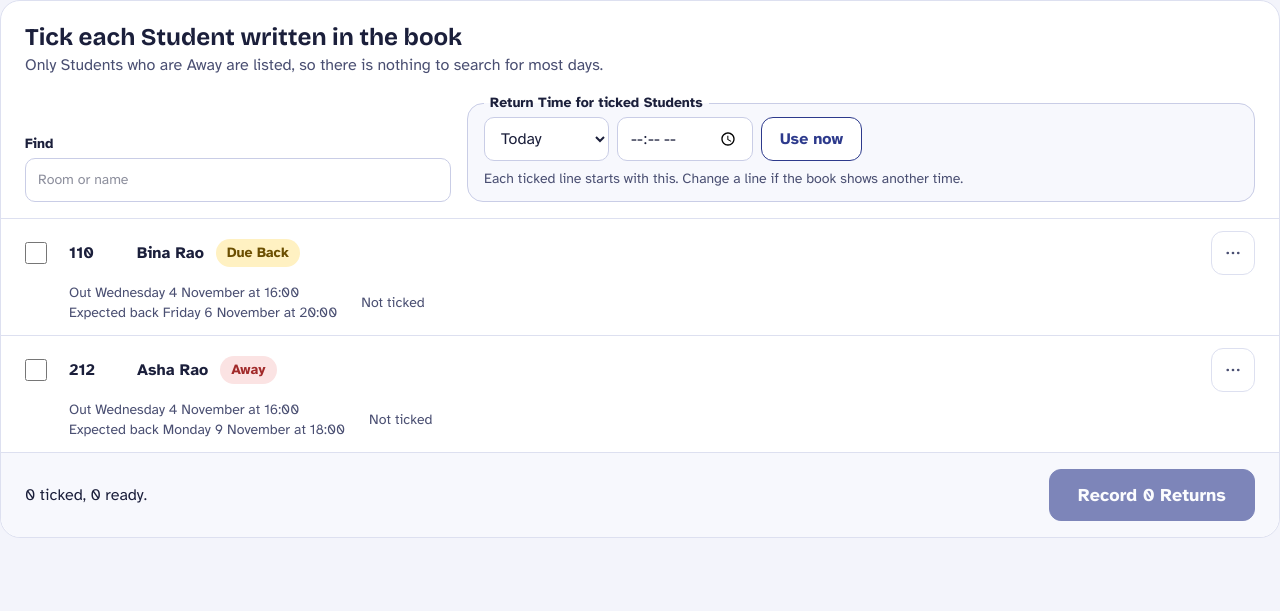
the Back-from-Home Book › changing one line leaves the other lines with the time from the top
Type "17:15" into the time field named "Return Time for ticked Students" at (685, 139), box [617, 117, 753, 161]
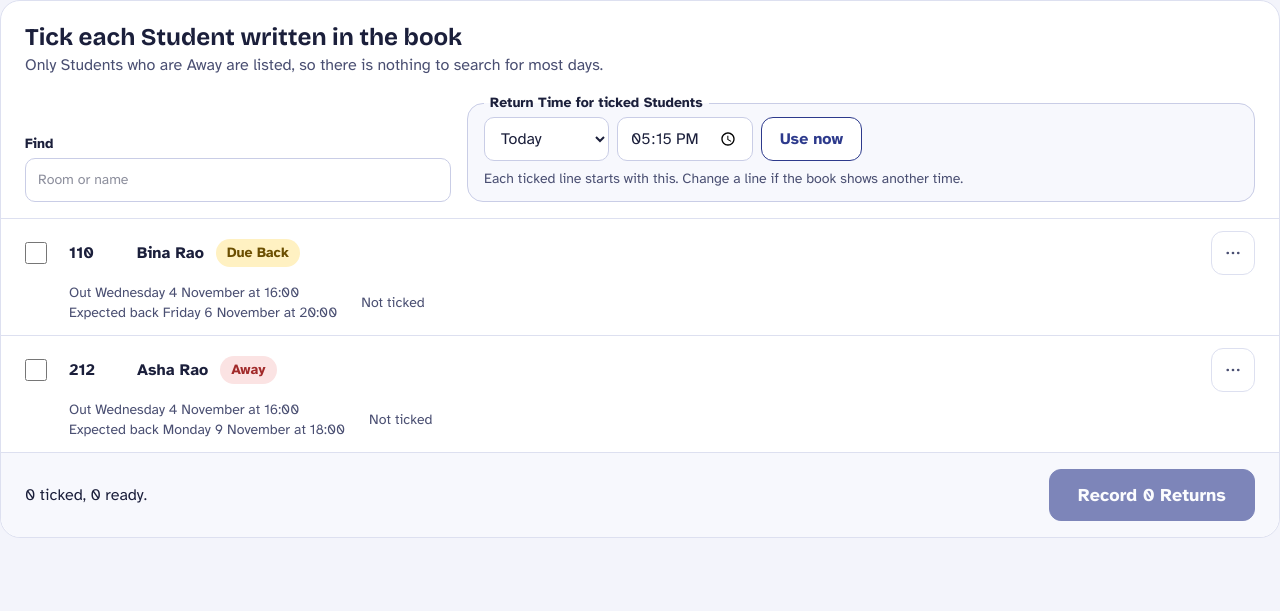
Click the checkbox named "Asha Rao came back" at (36, 370), box [25, 359, 47, 381]
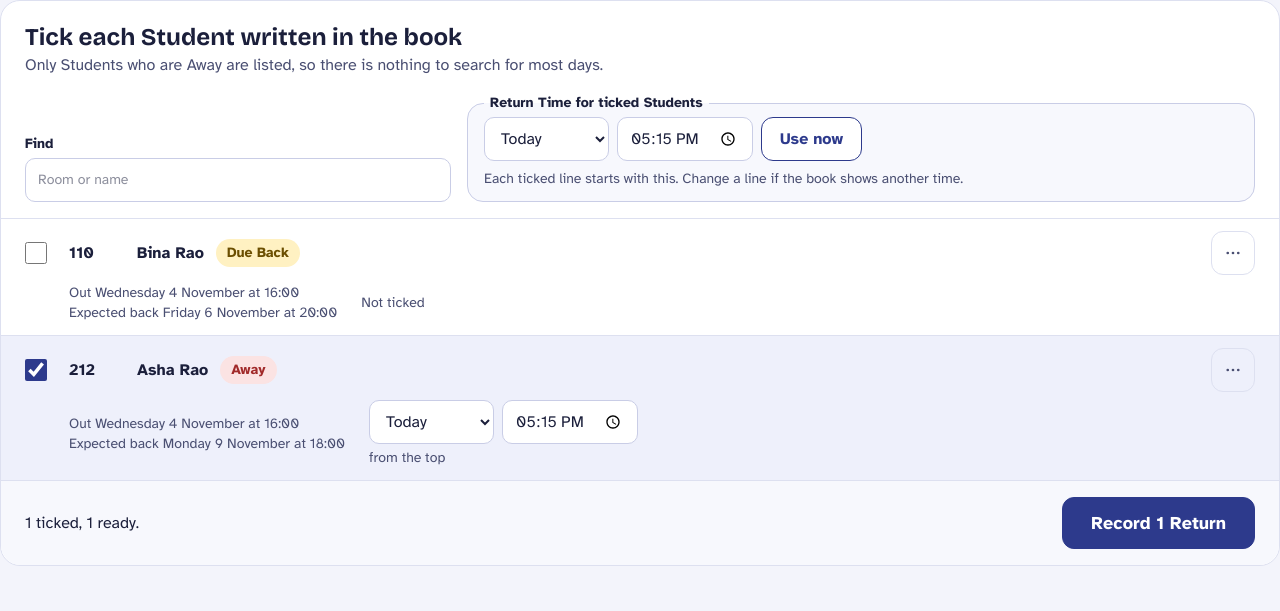
Click the checkbox named "Bina Rao came back" at (36, 253), box [25, 242, 47, 264]
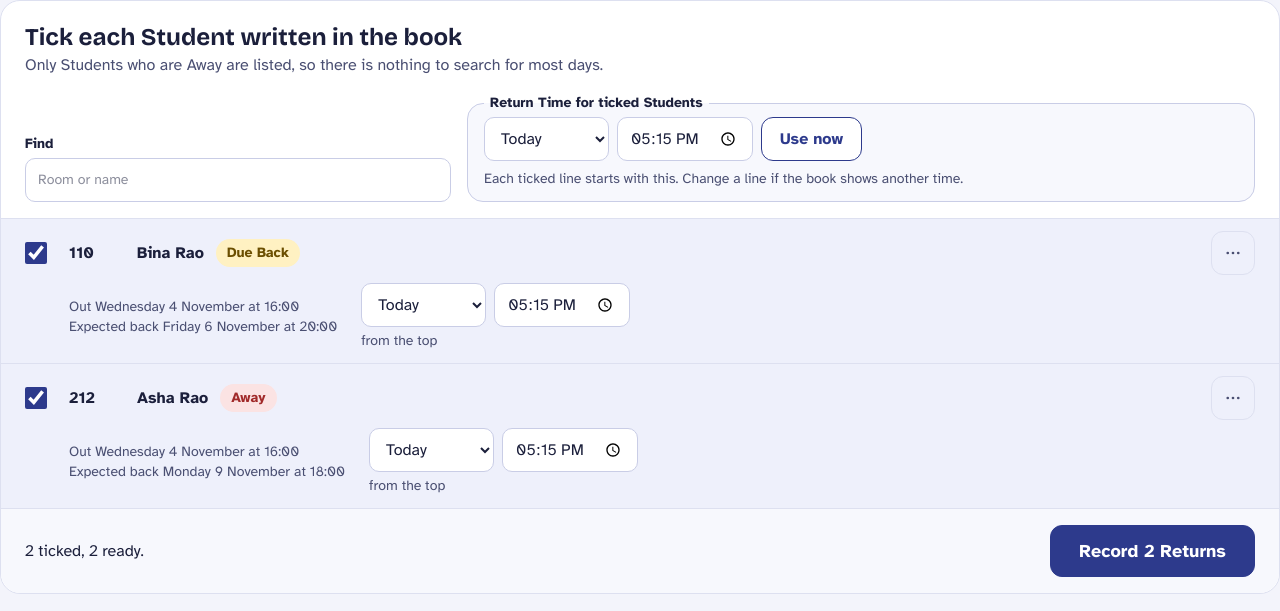
Replace the text in the time field named "Return Time for Asha Rao" with "16:40" at (570, 450), box [502, 428, 638, 472]
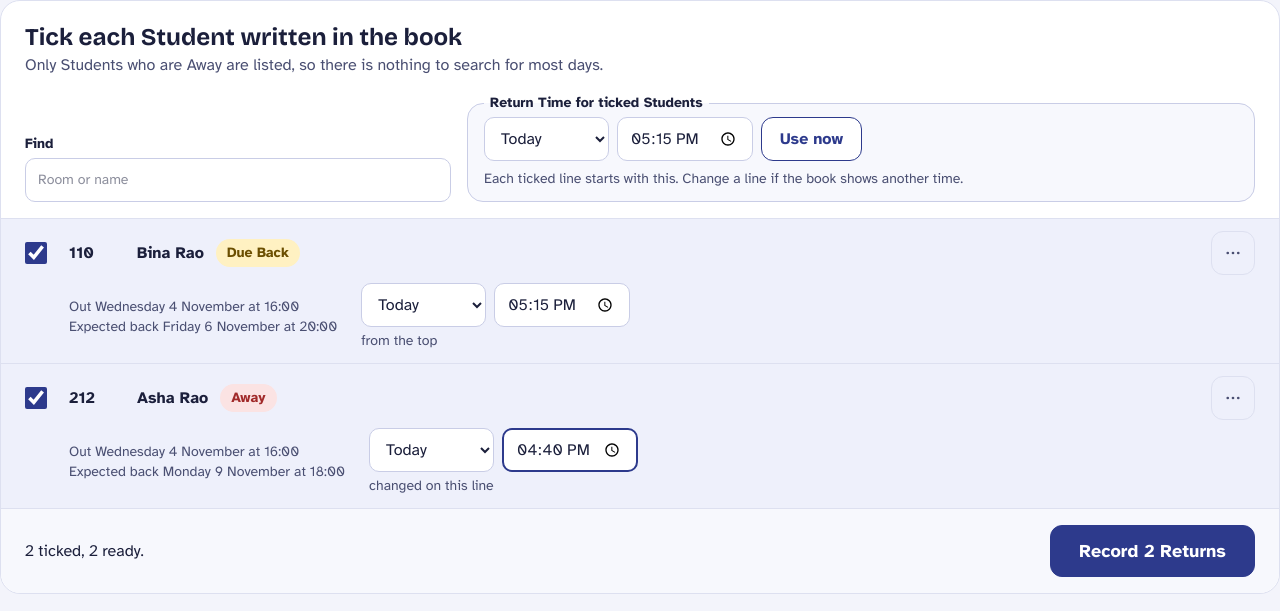
Replace the text in the time field named "Return Time for ticked Students" with "18:00" at (685, 139), box [617, 117, 753, 161]
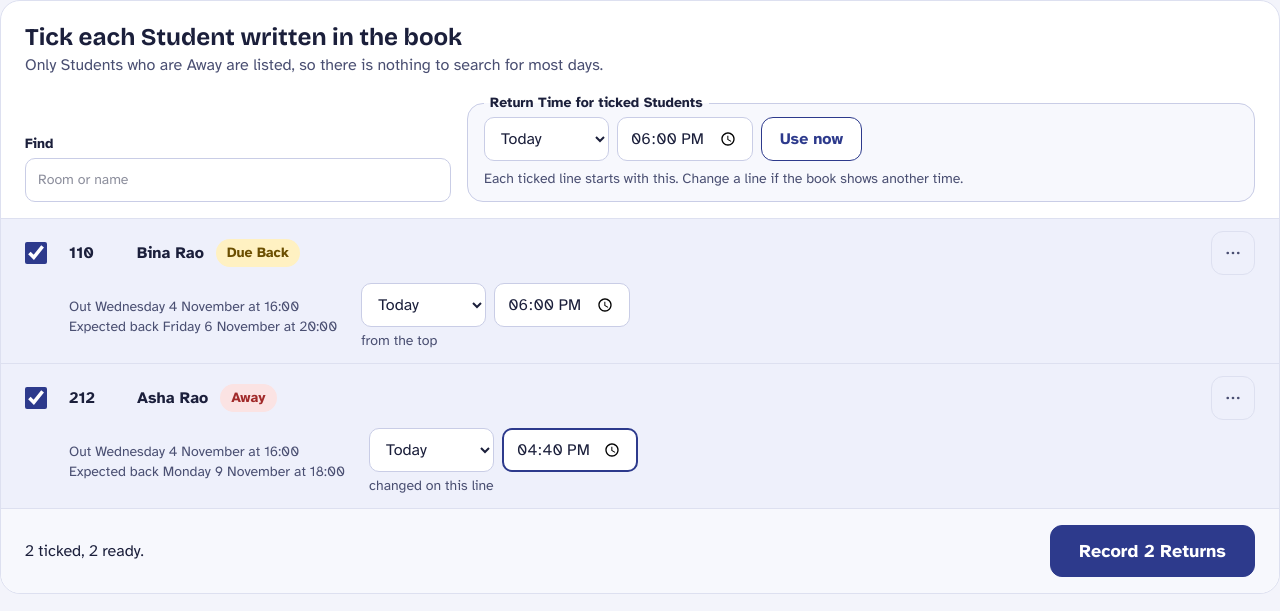
Expected: the text "changed on this line" is shown, [369, 477, 494, 494]
Expected: the time field named "Return Time for Bina Rao" holds "18:00", [494, 283, 630, 327]
